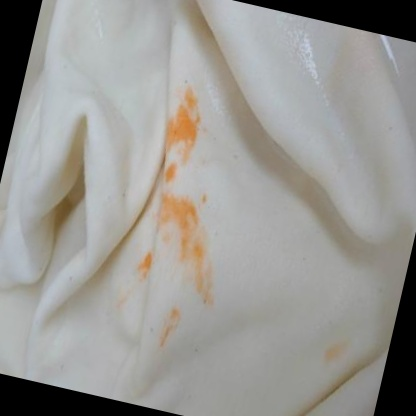kimchi: (134, 176, 240, 306), (140, 76, 222, 184), (145, 297, 191, 355), (119, 246, 157, 316), (311, 326, 352, 374)
